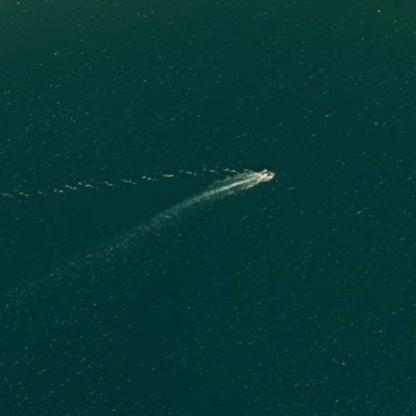ship: (255, 8, 275, 10)
